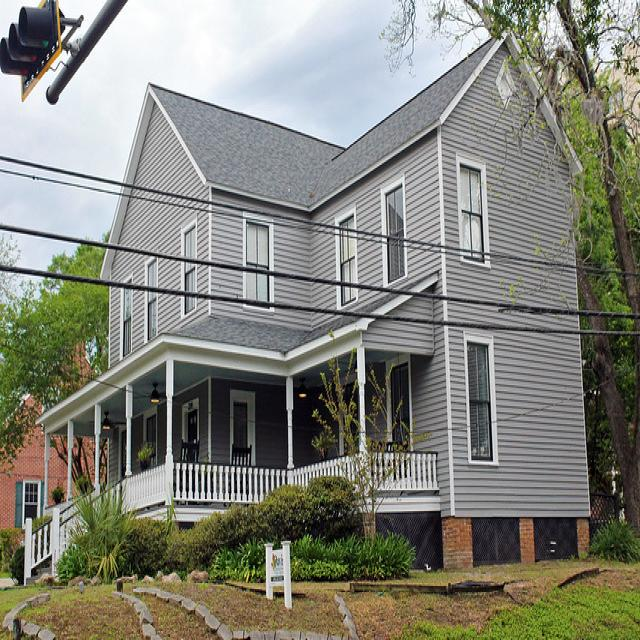Normal_building: (17, 32, 596, 580)
